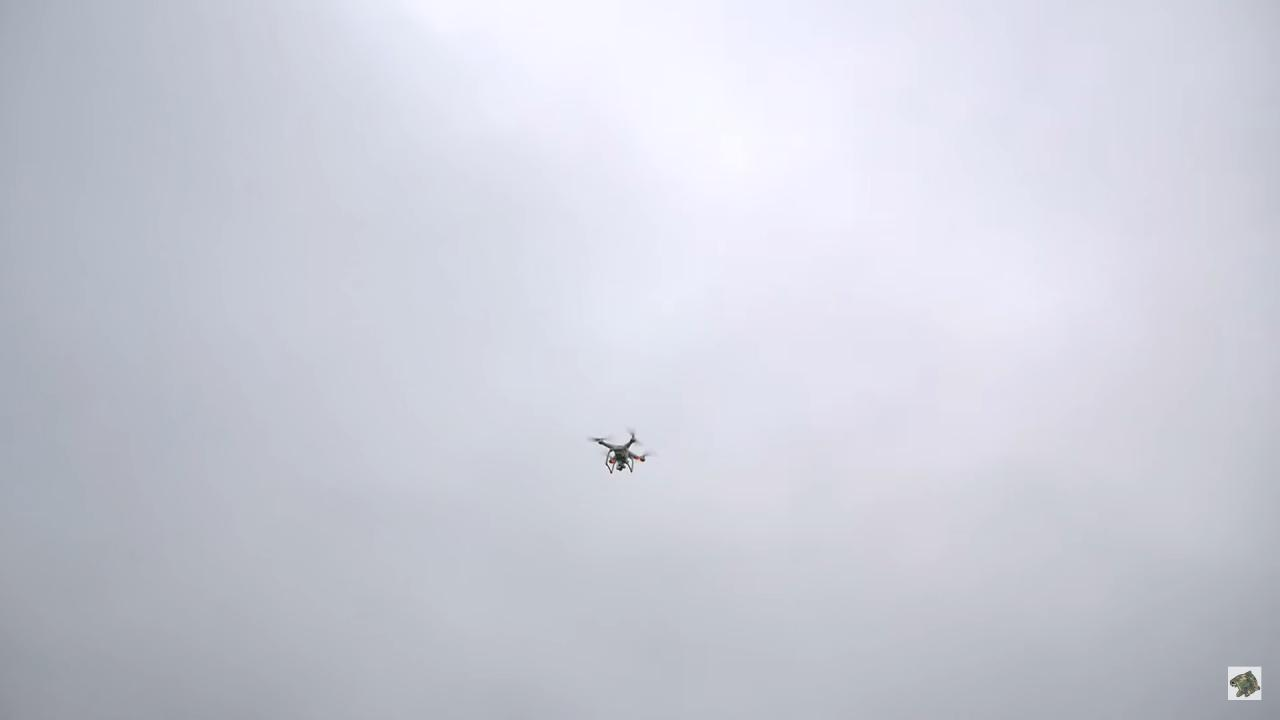Drone: (577, 425, 663, 483)
